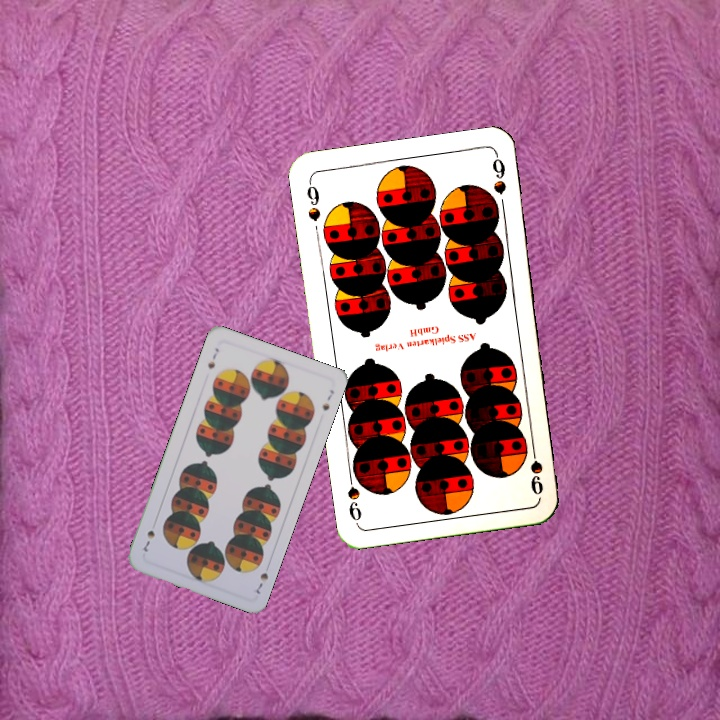S7: (251, 568, 271, 597), (204, 344, 221, 371)
S9: (526, 439, 546, 498), (302, 177, 323, 224)
